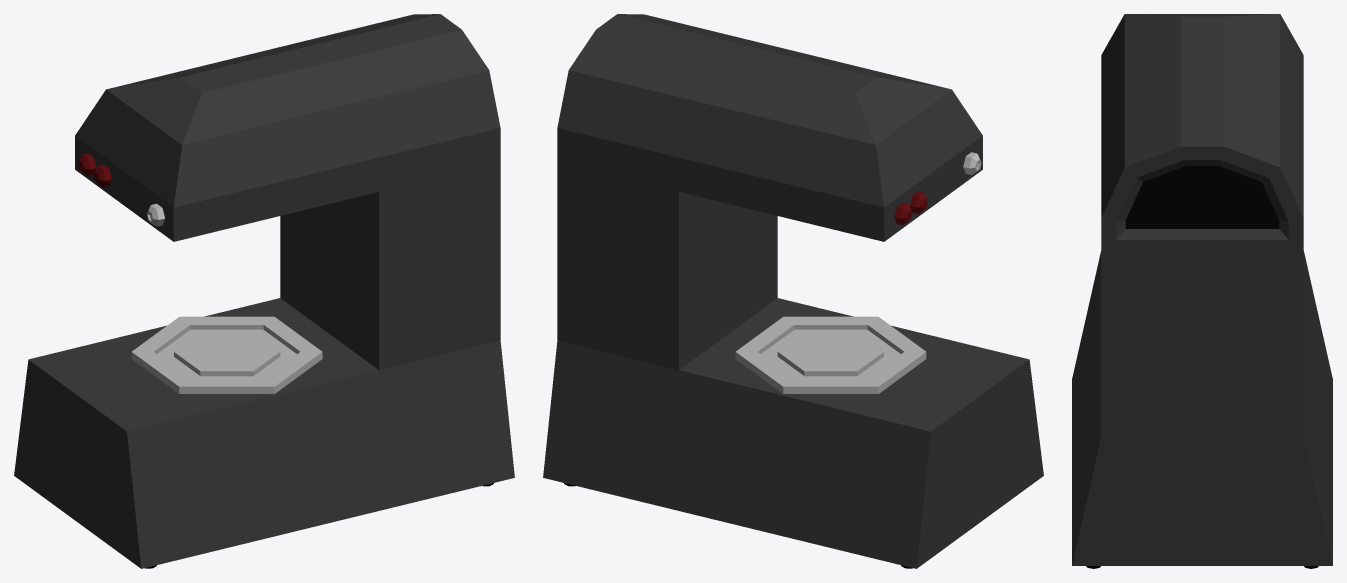
File: coffee machine lvl1.fbx
The picture shows the model from 3 angles, left to right: view 1: azimuth 30°, elevation 25°; view 2: azimuth 150°, elevation 25°; view 3: azimuth 270°, elevation 25°; orthographic projection. The views are drawn at different scales.
Parts seen in each view (by area): view 1: Cube.003; view 2: Cube.003; view 3: Cube.003.
Boxes of the visible parts, x1,y1,x2,y2 form: Cube.003: (14,14,514,568); Cube.003: (543,14,1043,568); Cube.003: (1072,14,1332,568).
Size of the model in its own units: 136 by 230 by 246.
Materials: 1 (1 with a texture image).
